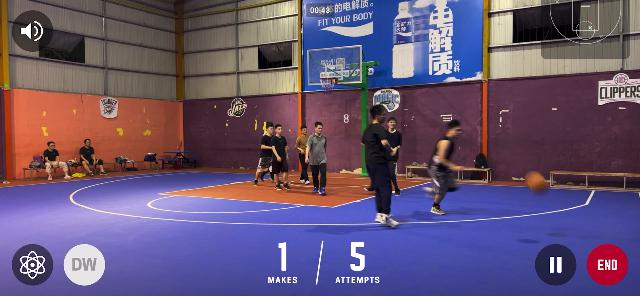ball: (525, 170, 547, 192)
basket: (318, 76, 338, 95)
